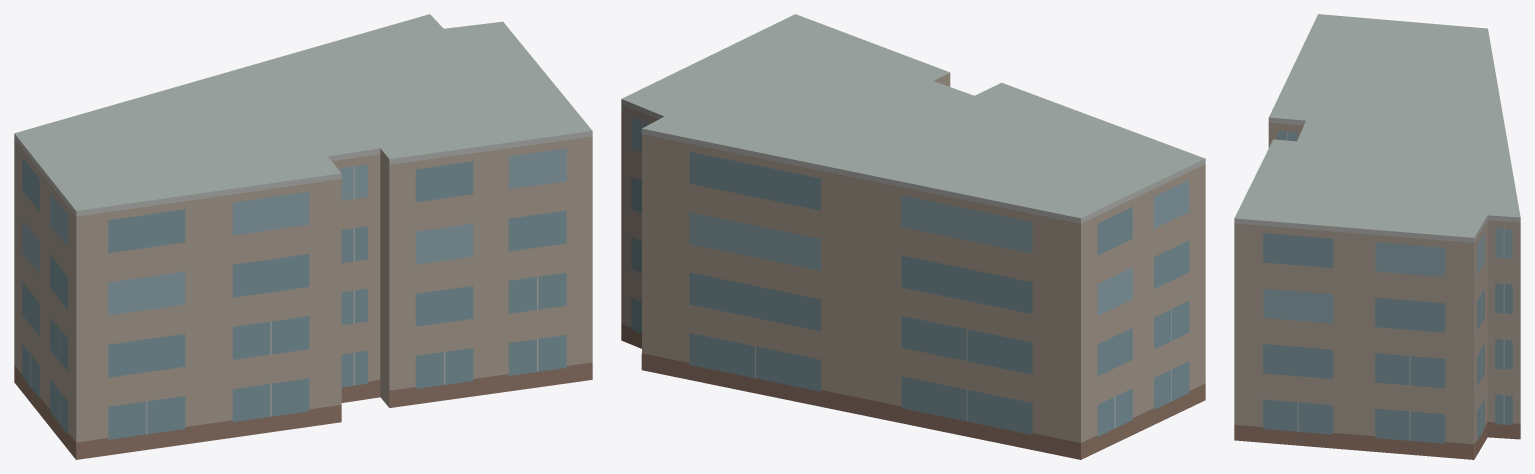
The model's file is survey-upis-32564597.glb.
The picture shows the model from 3 angles, left to right: view 1: azimuth 30°, elevation 25°; view 2: azimuth 150°, elevation 25°; view 3: azimuth 270°, elevation 25°; orthographic projection. The views are drawn at different scales.
Parts seen in each view (by area): view 1: survey-upis-32564597.tmp; view 2: survey-upis-32564597.tmp; view 3: survey-upis-32564597.tmp.
Boxes of the visible parts, x1=… form: survey-upis-32564597.tmp: x1=14, y1=14, x2=592, y2=459; survey-upis-32564597.tmp: x1=621, y1=14, x2=1205, y2=459; survey-upis-32564597.tmp: x1=1234, y1=14, x2=1520, y2=459.
Bounding box in the file's own units: 23.22 × 10.73 × 12.55.
